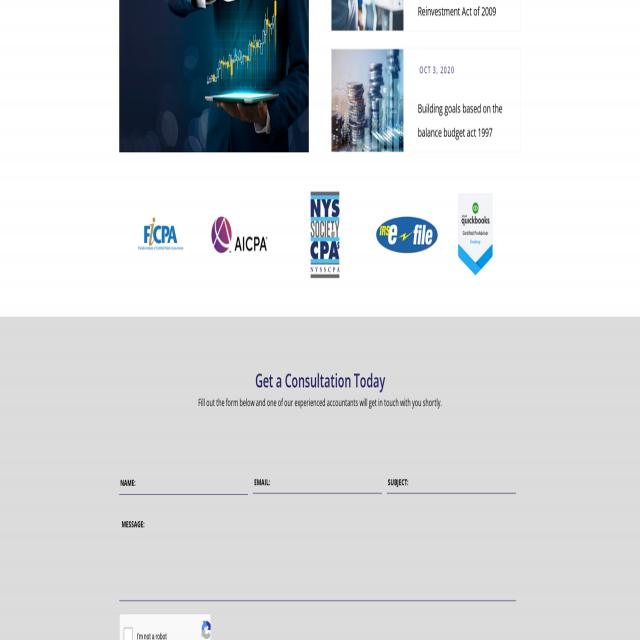button: (119, 0, 309, 153), (332, 49, 403, 152), (129, 206, 191, 263), (309, 188, 341, 280), (458, 193, 493, 276), (376, 215, 438, 254), (332, 0, 403, 31), (211, 216, 268, 253)
field: (120, 518, 516, 600), (252, 474, 382, 494), (386, 474, 516, 494), (119, 475, 248, 495), (124, 627, 132, 640)
